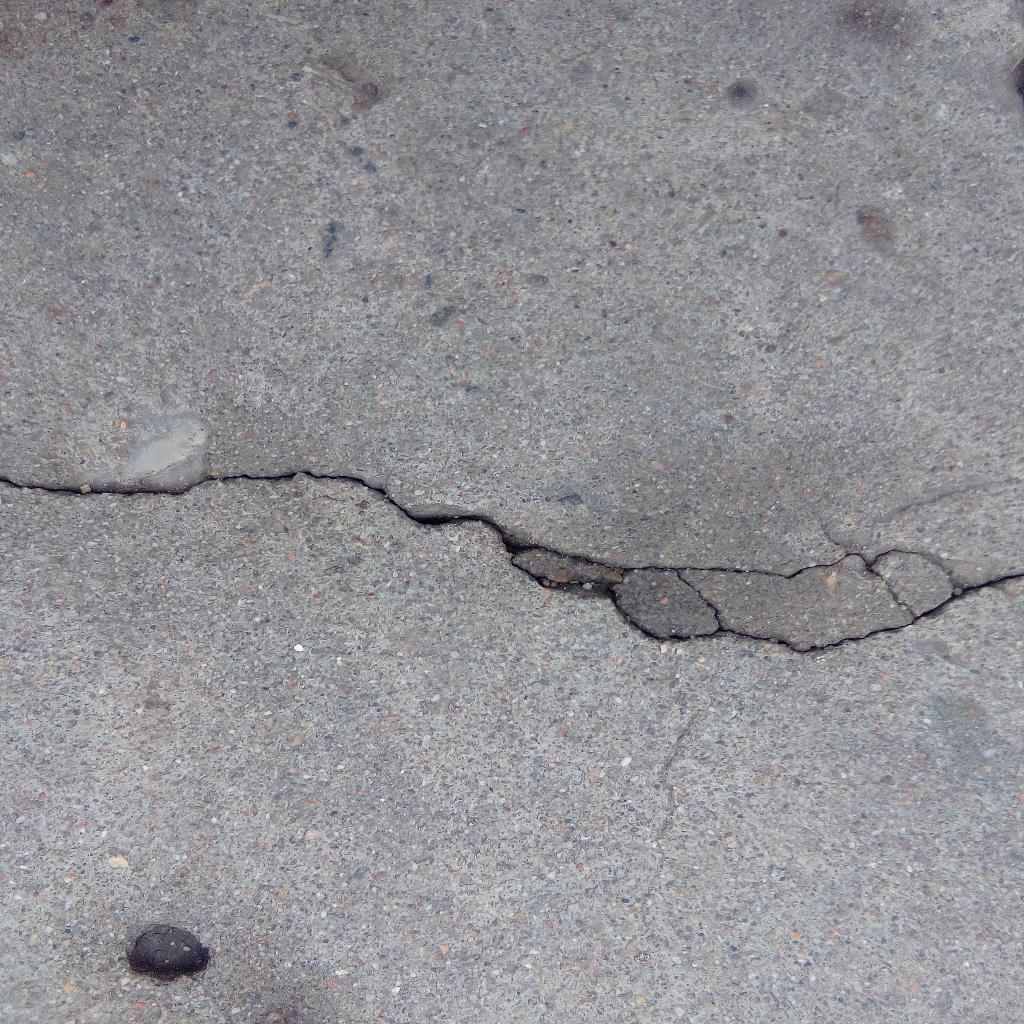Crack: (1, 463, 1024, 658)
Spalling: (128, 924, 212, 982)
